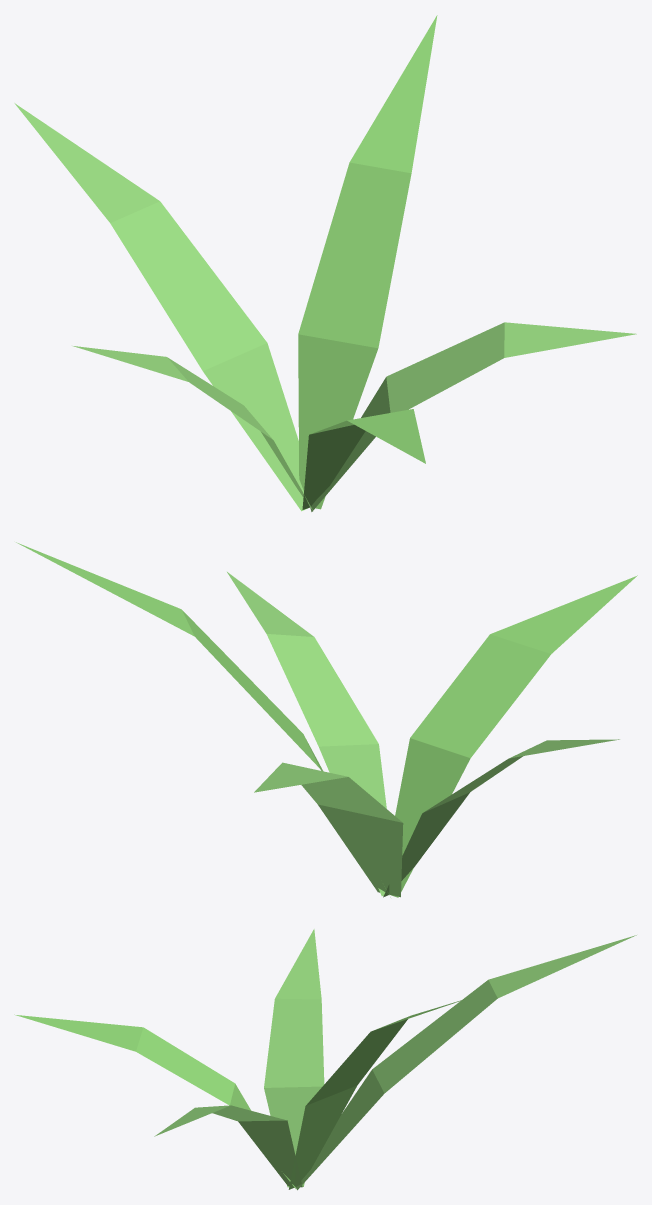
File: Plant_e_OneS_05.fbx
3 views of the same model, one above another, from view 1: azimuth 30°, elevation 25°; view 2: azimuth 150°, elevation 25°; view 3: azimuth 270°, elevation 25° (orthographic). The views are drawn at different scales.
Visible parts, largest first — view 1: Plant_e_OneS_05; view 2: Plant_e_OneS_05; view 3: Plant_e_OneS_05.
Part boxes in pixels (<box>): Plant_e_OneS_05: <box>14,15,636,511</box>; Plant_e_OneS_05: <box>16,542,637,897</box>; Plant_e_OneS_05: <box>14,929,636,1190</box>.
Bounding box in the file's own units: 60.4 × 43.75 × 86.28.
